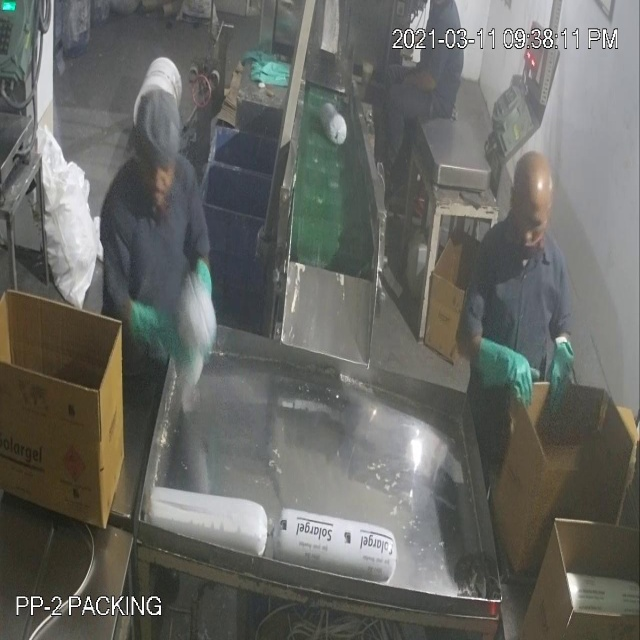Guantes: (476, 326, 538, 412), (542, 327, 573, 423)
